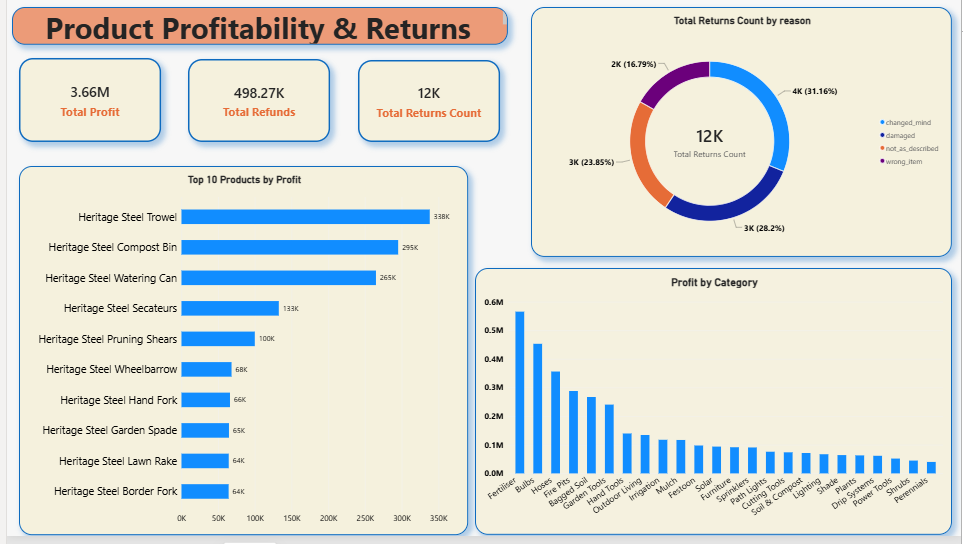

What the dashboard file says about the page in this screenshot:
{"tool":"powerbi","page":{"name":"Page 2","canvas":[1920,1080],"ordinal":1},"visuals":[{"type":"textbox","box":[10.1,14.1,998.2,76.5],"z":0},{"type":"card","fields":{"Values":["Key_Metrics.Total Profit"]},"box":[24.2,116.7,285.8,169.1],"z":1000},{"type":"card","fields":{"Values":["Key_Metrics.Total Refunds"]},"box":[364.3,118.7,285.8,167],"z":2000},{"type":"card","fields":{"Values":["Key_Metrics.Total Returns Count"]},"box":[706.4,120.8,285.8,165],"z":3000},{"type":"clusteredBarChart","title":"Top 10 Products by Profit","fields":{"Category":["products.product_name"],"Y":["Key_Metrics.Total Profit"]},"box":[24.2,334.1,903.6,742.6],"z":4000},{"type":"donutChart","fields":{"Category":["returns.reason"],"Y":["Key_Metrics.Total Returns Count"]},"box":[1054.6,14.1,847.3,503.1],"z":5000},{"type":"clusteredColumnChart","title":"Profit by Category","fields":{"Category":["categories.category_name"],"Y":["Key_Metrics.Total Profit"]},"box":[941.9,539.4,960,537.4],"z":6000}]}

Visuals, with their boxes in screenshot pixels (x1, y1, x2, y2), scaled from the page's 1920x1080 canvas onto the 963x550 screenshot:
textbox: x1=5, y1=7, x2=506, y2=46
card - Key_Metrics.Total Profit: x1=12, y1=59, x2=155, y2=146
card - Key_Metrics.Total Refunds: x1=183, y1=60, x2=326, y2=145
card - Key_Metrics.Total Returns Count: x1=354, y1=62, x2=498, y2=146
"Top 10 Products by Profit" clusteredBarChart: x1=12, y1=170, x2=465, y2=548
donutChart - returns.reason x Key_Metrics.Total Returns Count: x1=529, y1=7, x2=954, y2=263
"Profit by Category" clusteredColumnChart: x1=472, y1=275, x2=954, y2=548
